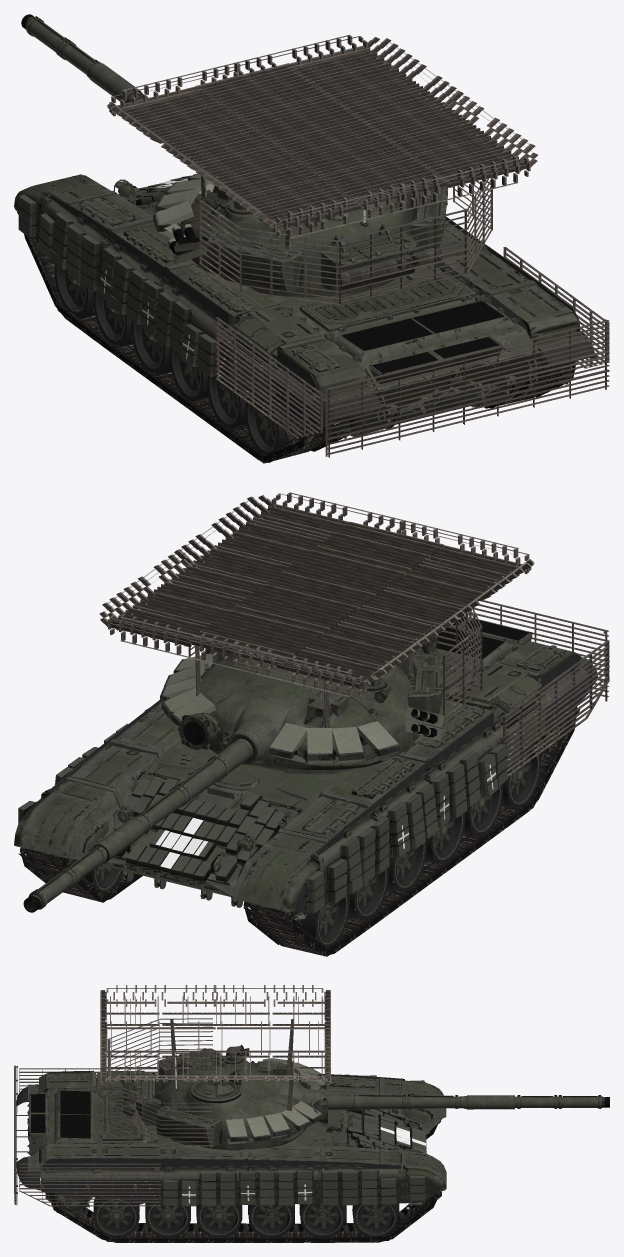
3 renders of one model, top to bottom at view 1: azimuth 30°, elevation 25°; view 2: azimuth 150°, elevation 25°; view 3: azimuth 270°, elevation 25°, orthographic. The views are drawn at different scales.
Visible parts, largest first — view 1: V_t72b3__Turret_5, V_t72b3__Body_3, V_t72b3__Body_1, V_t72b3__Body_7, V_t72b3__Turret_2, V_t72b3__Body_9, V_t72b3__Body_6, V_t72b3__Turret_4, V_t72b3__Gun_1; view 2: V_t72b3__Turret_5, V_t72b3__Body_3, V_t72b3__Body_1, V_t72b3__Turret_2, V_t72b3__Body_9, V_t72b3__Body_6, V_t72b3__Gun_1, V_t72b3__Turret_4, V_t72b3__Body_7, V_t72b3__Body_2; view 3: V_t72b3__Body_1, V_t72b3__Body_3, V_t72b3__Turret_5, V_t72b3__Turret_2, V_t72b3__Body_9, V_t72b3__Body_6, V_t72b3__Body_7, V_t72b3__Gun_1, V_t72b3__Turret_4.
Boxes of the visible parts, box(x1,y1,x2,y2) form: V_t72b3__Turret_5: box(107, 34, 537, 304); V_t72b3__Body_3: box(14, 174, 588, 436); V_t72b3__Body_1: box(17, 173, 596, 425); V_t72b3__Body_7: box(215, 247, 609, 457); V_t72b3__Turret_2: box(176, 186, 448, 297); V_t72b3__Body_9: box(54, 265, 572, 455); V_t72b3__Body_6: box(24, 234, 576, 463); V_t72b3__Turret_4: box(153, 174, 413, 264); V_t72b3__Gun_1: box(21, 14, 148, 103); V_t72b3__Turret_5: box(99, 492, 534, 727); V_t72b3__Body_3: box(14, 616, 589, 911); V_t72b3__Body_1: box(18, 653, 597, 913); V_t72b3__Turret_2: box(178, 636, 442, 769); V_t72b3__Body_9: box(35, 714, 572, 947); V_t72b3__Body_6: box(18, 707, 580, 956); V_t72b3__Gun_1: box(23, 697, 289, 912); V_t72b3__Turret_4: box(160, 652, 444, 763); V_t72b3__Body_7: box(390, 584, 609, 776); V_t72b3__Body_2: box(155, 817, 207, 868); V_t72b3__Body_1: box(16, 1070, 438, 1206); V_t72b3__Body_3: box(27, 1070, 446, 1191); V_t72b3__Turret_5: box(100, 985, 330, 1146); V_t72b3__Turret_2: box(120, 1046, 327, 1149); V_t72b3__Body_9: box(51, 1193, 432, 1237); V_t72b3__Body_6: box(45, 1121, 441, 1242); V_t72b3__Body_7: box(14, 1065, 160, 1206); V_t72b3__Gun_1: box(277, 1080, 609, 1110); V_t72b3__Turret_4: box(226, 1045, 326, 1144).
Size of the model in its own units: 11.08 by 8.63 by 27.4.
Materials: 14 (10 with a texture image).
